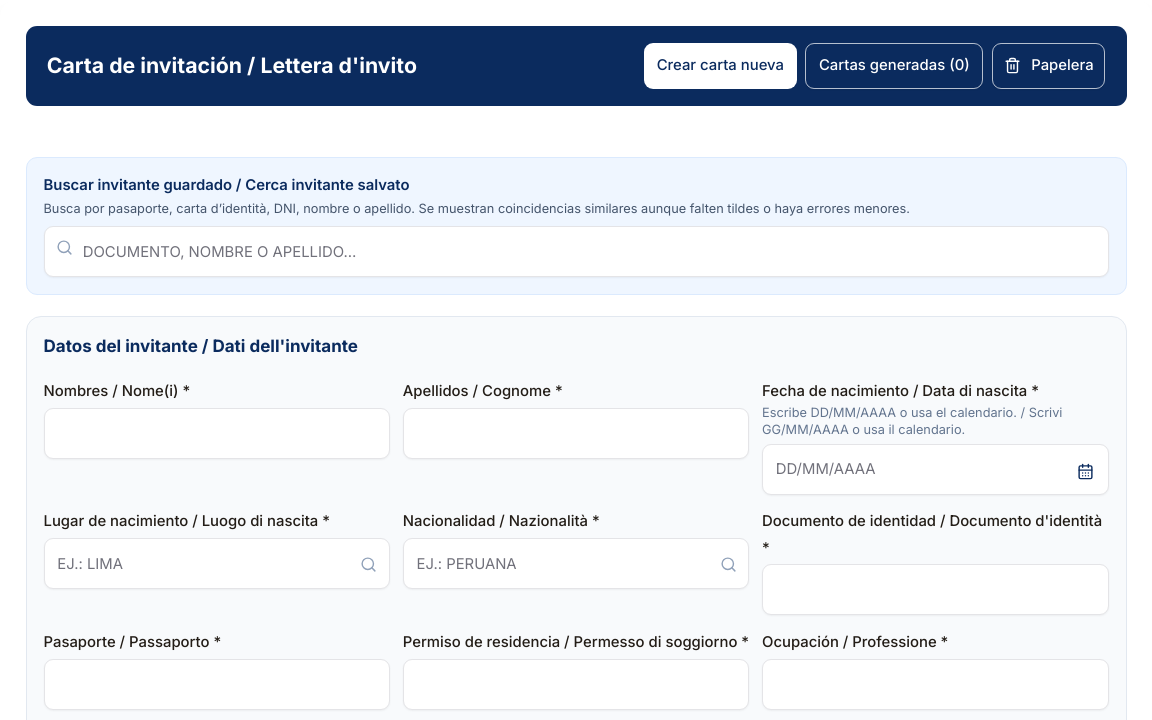
Test: InvitationLetterWorkspace › cierra las sugerencias al pasar a otro campo sin alterar el texto escrito
Type "peruviana" into the field labelled "Nacionalidad / Nazionalità *".
click(576, 564); type("peruviana")  # box [403, 538, 749, 589]
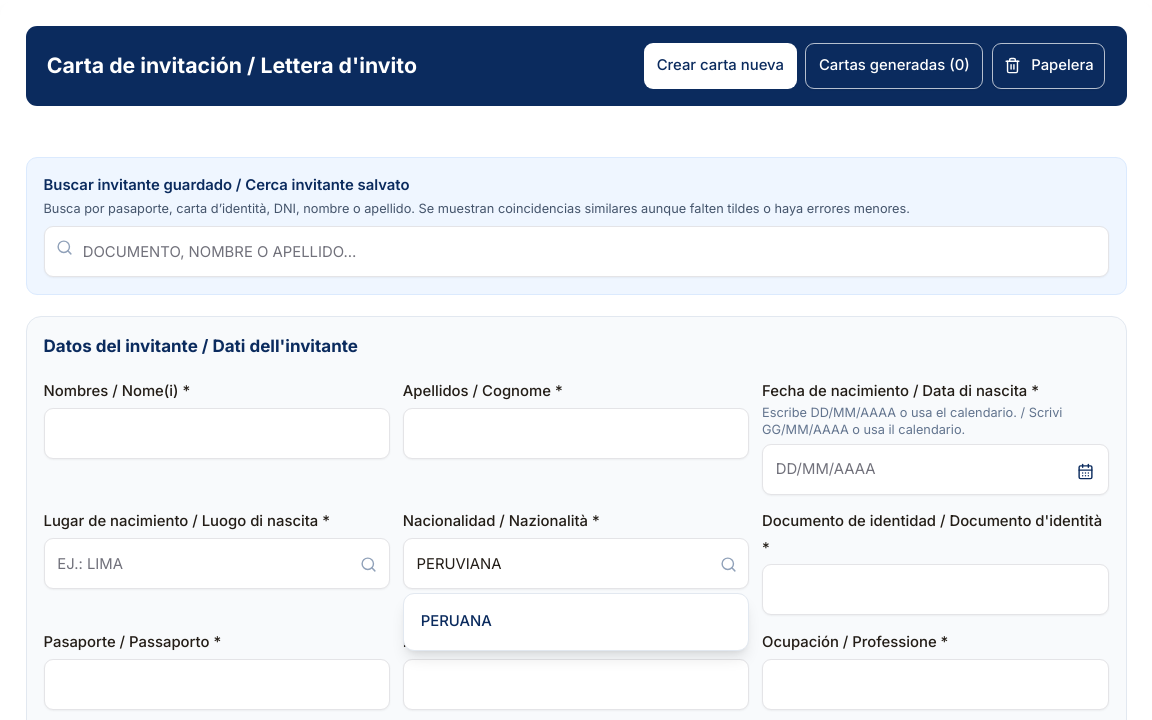
Expected: the button "PERUANA" is shown, [408, 598, 744, 645]
Leave the field labelled "Nacionalidad / Nazionalità *", box [403, 538, 749, 589]
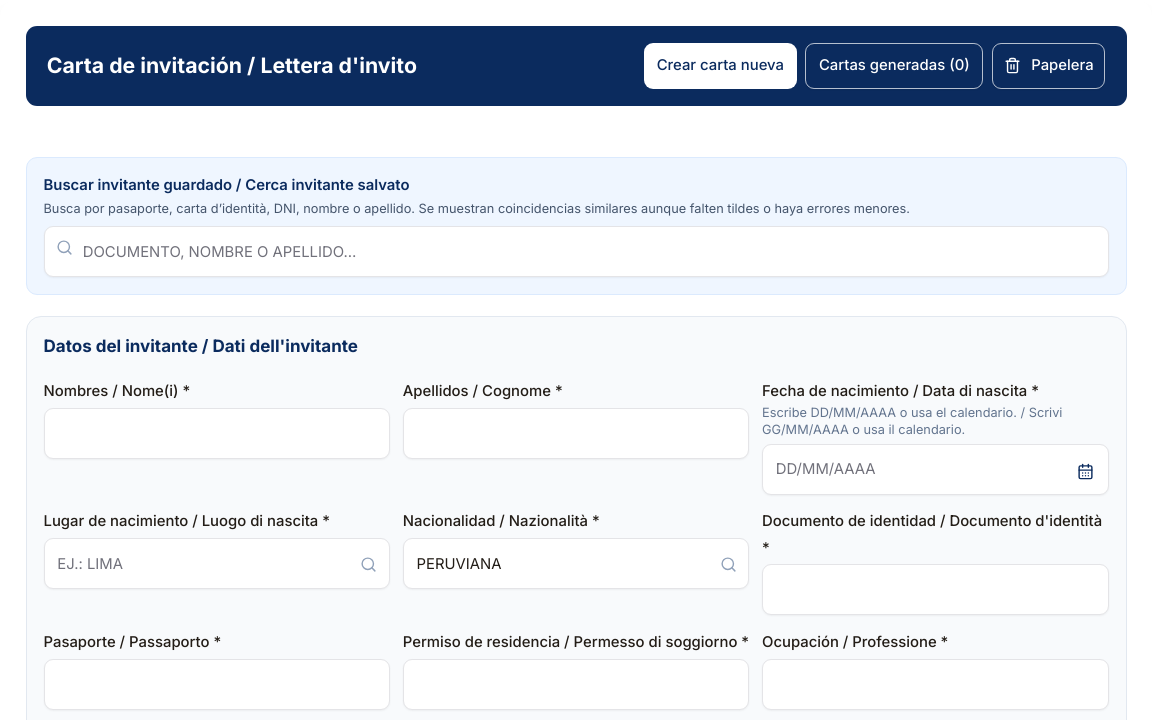
Expected: the button "PERUANA" is gone
